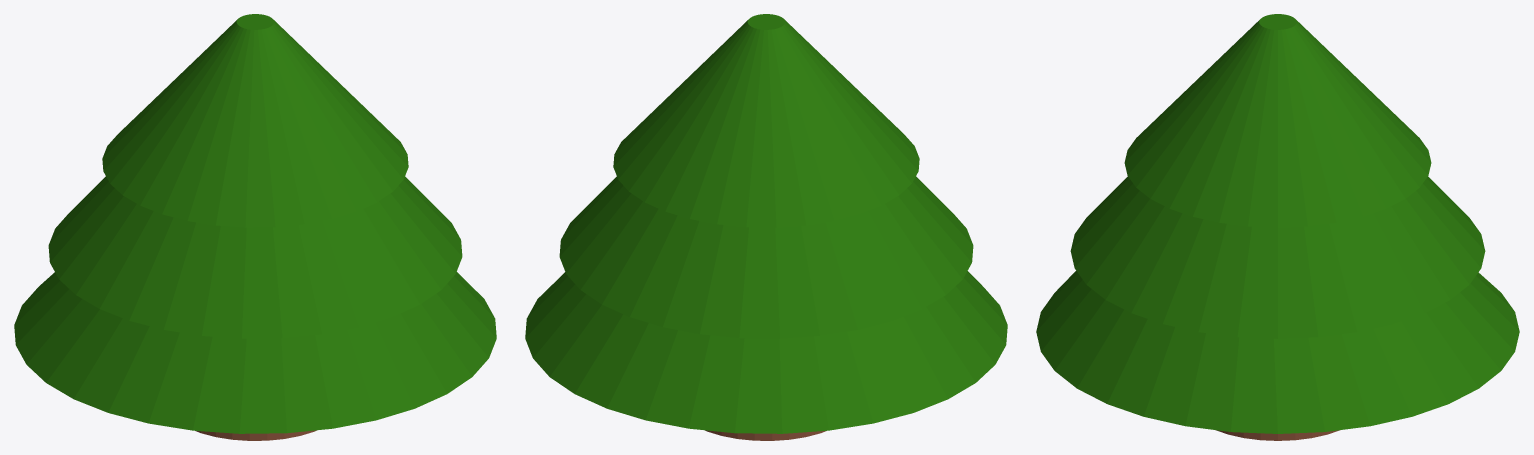
The model's file is tree.fbx.
The picture shows the model from 3 angles, left to right: view 1: azimuth 30°, elevation 25°; view 2: azimuth 150°, elevation 25°; view 3: azimuth 270°, elevation 25°; orthographic projection.
Visible parts, largest first — view 1: Cylinder; view 2: Cylinder; view 3: Cylinder.
Part boxes in pixels (left/top/right/bottom): Cylinder: left=14, top=14, right=496, bottom=440; Cylinder: left=525, top=14, right=1007, bottom=440; Cylinder: left=1036, top=14, right=1519, bottom=440.
Size of the model in its own units: 541 by 471 by 541.
